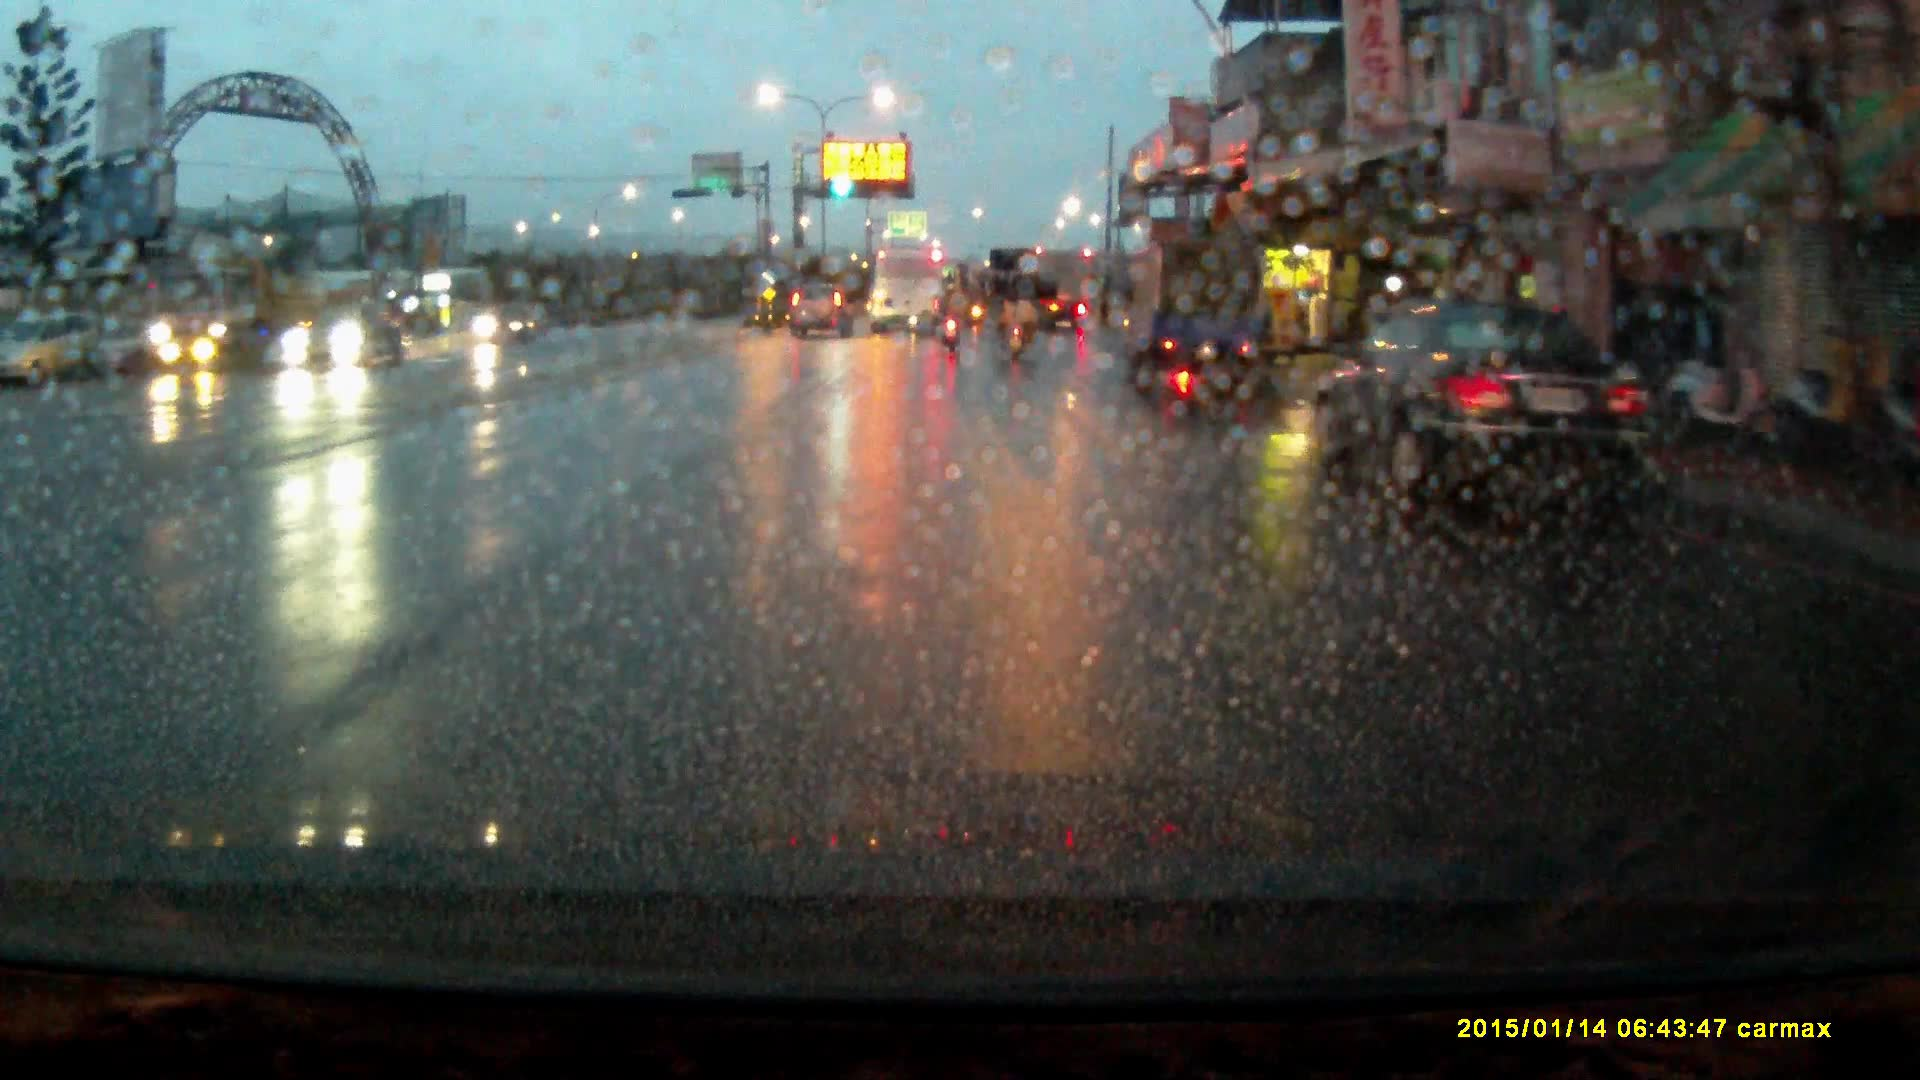rider: (997, 276, 1034, 359), (937, 285, 970, 355)
vehicle: (1330, 297, 1635, 522), (159, 253, 367, 371), (1120, 238, 1267, 380), (1, 310, 116, 390), (279, 308, 412, 374), (873, 246, 942, 336), (991, 250, 1059, 337), (790, 279, 855, 341), (468, 301, 544, 346)
